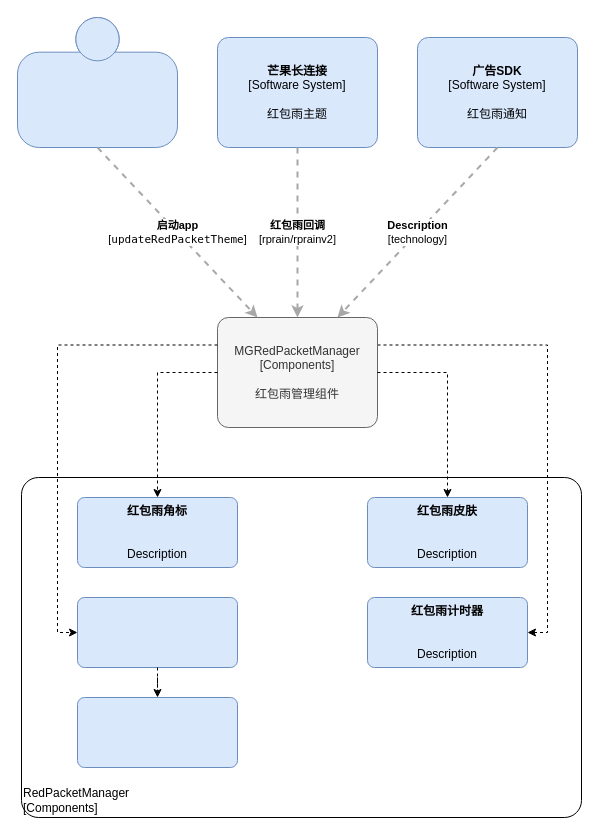
This 599x835 diagram has some shape labels left out. Here are the shapes that lost their labels. From the top down, the centre of each, then its label:
At [97,82]: "user [Person] 芒果TV用户".
At [157,632]: "红包雨主页面 Description".
At [157,732]: "奖品领取 Description".
